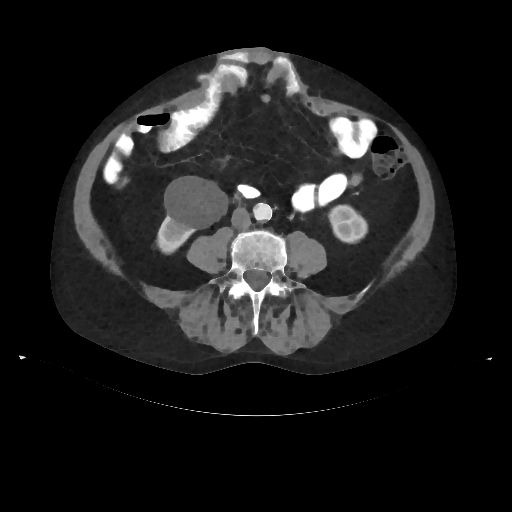Lesion: (160, 176, 230, 231)
